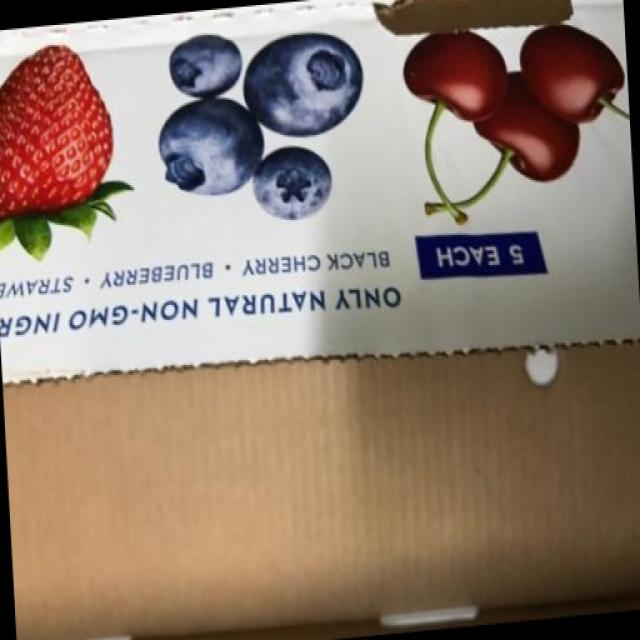carton: (45, 25, 584, 547)
